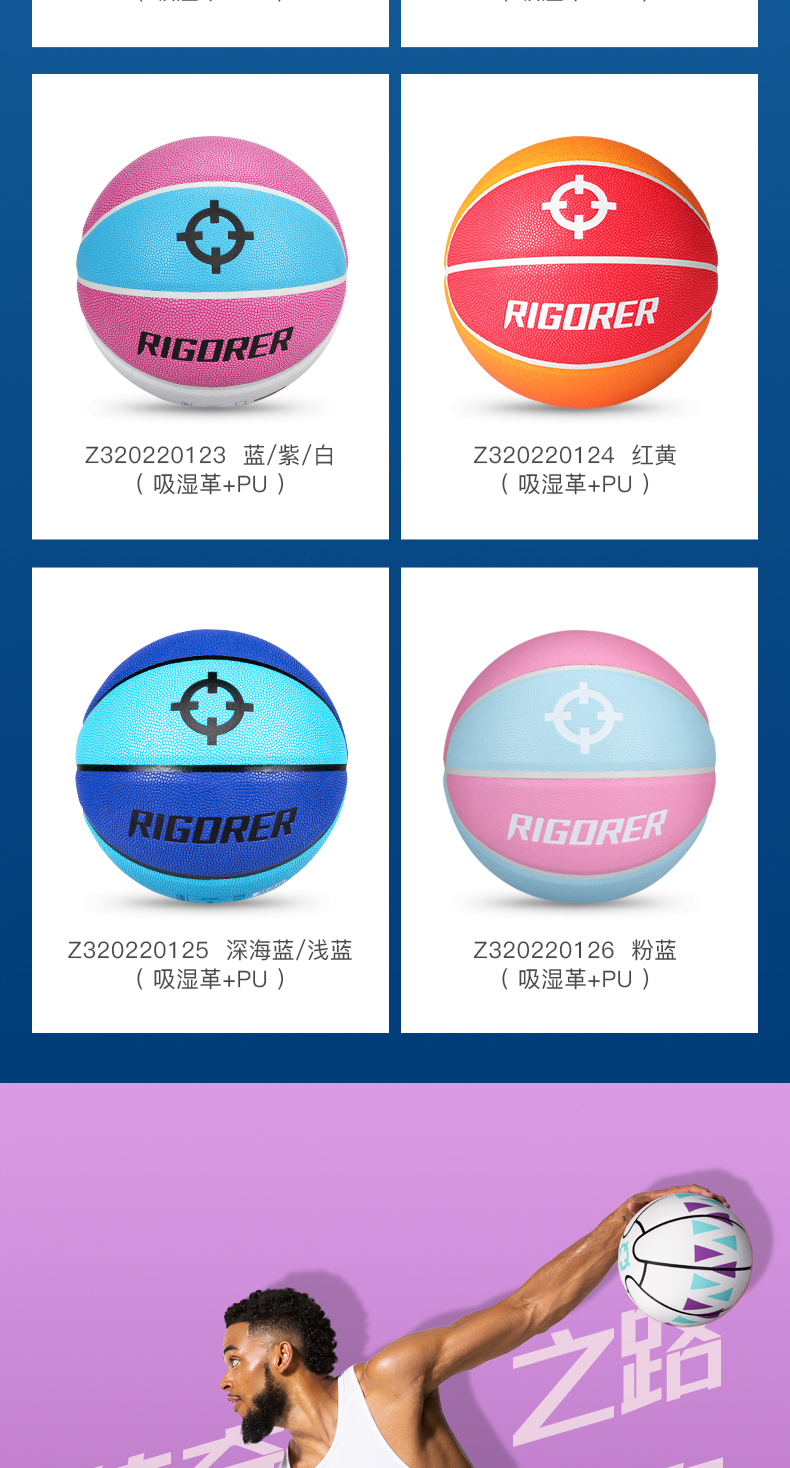ball: (441, 625, 721, 906), (72, 131, 352, 410), (443, 135, 719, 410), (74, 629, 350, 904), (613, 1192, 754, 1331)
